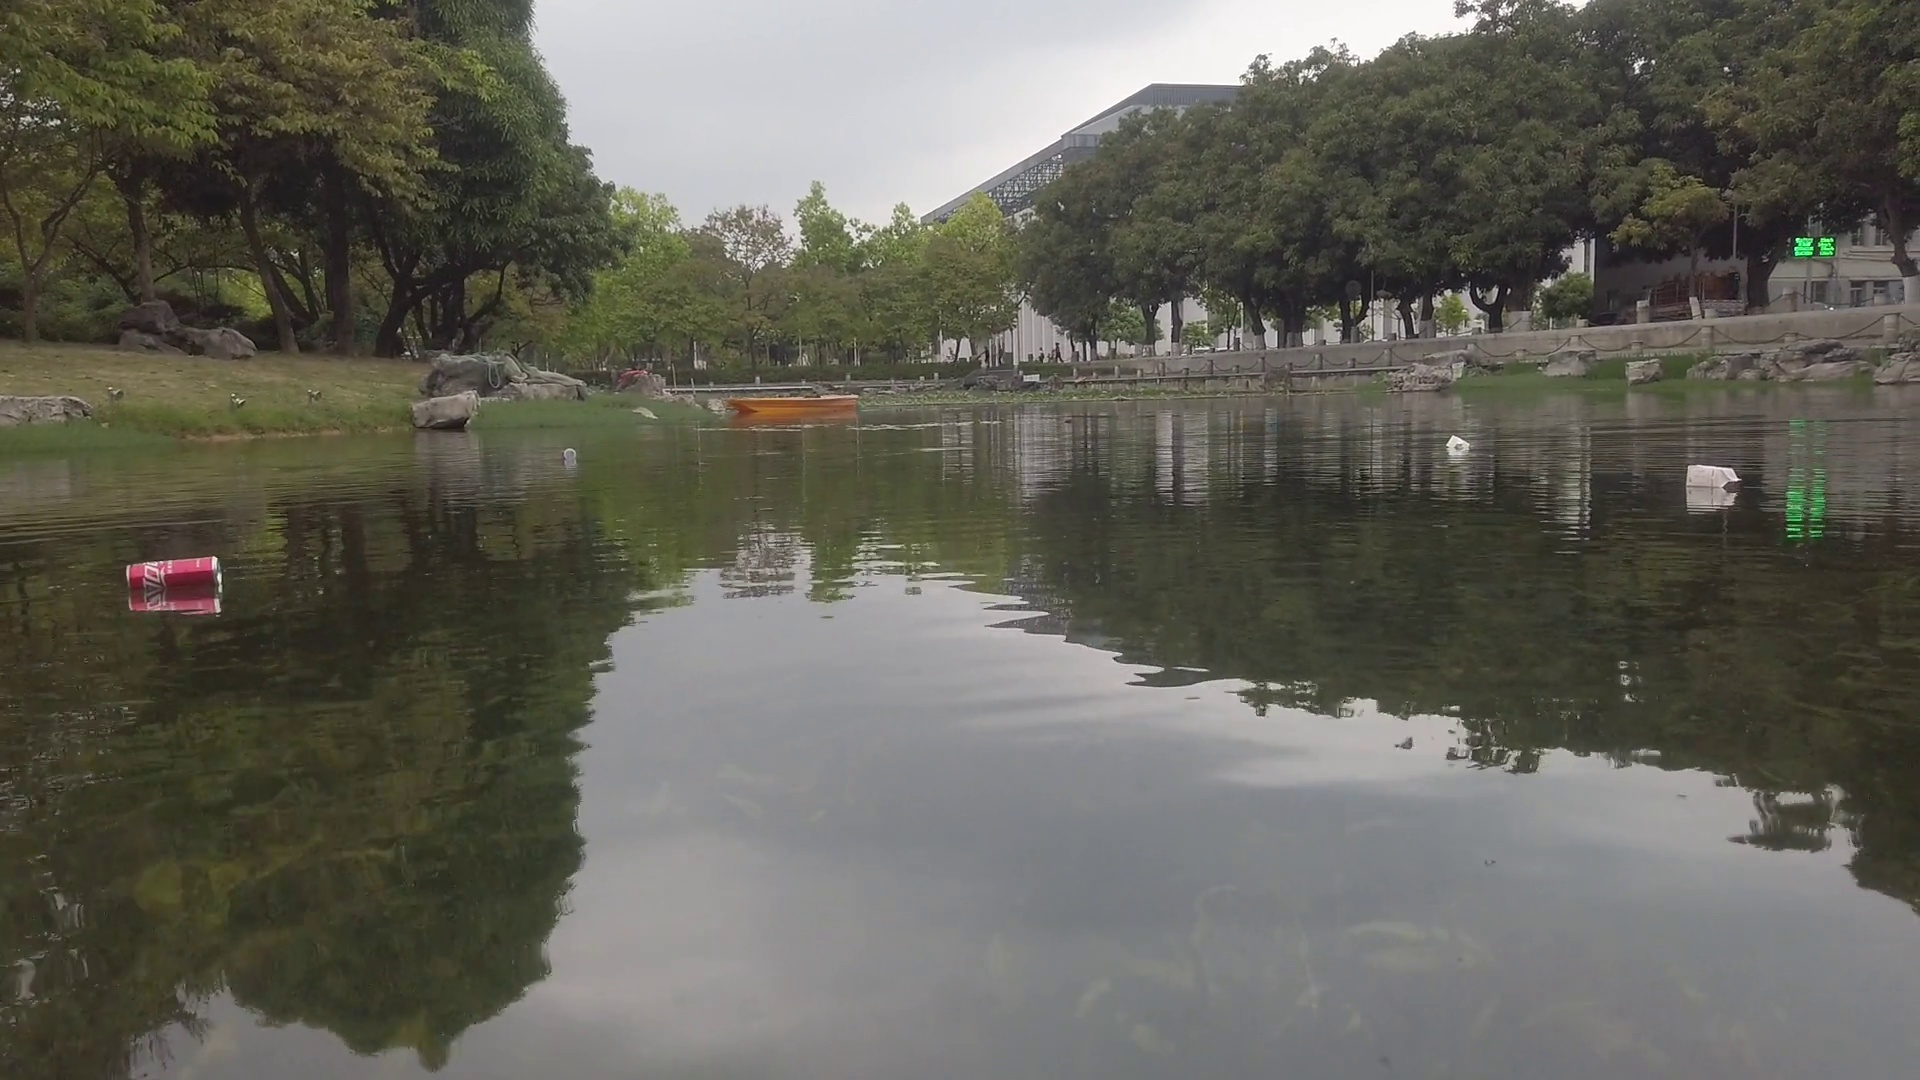bottle: (123, 556, 224, 588), (564, 448, 578, 462)
carton: (1684, 462, 1735, 491), (1447, 434, 1470, 451)
